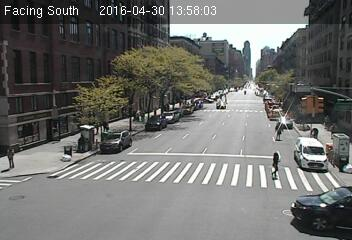neg: (173, 142, 210, 192), (224, 115, 250, 149), (54, 53, 79, 86), (71, 181, 95, 212), (125, 141, 148, 172), (7, 37, 29, 68), (78, 116, 100, 146), (137, 59, 159, 88), (242, 60, 263, 88), (185, 36, 204, 62), (296, 54, 315, 79), (212, 76, 229, 99), (54, 143, 70, 165)
pos: (265, 149, 287, 179), (5, 143, 23, 167)
